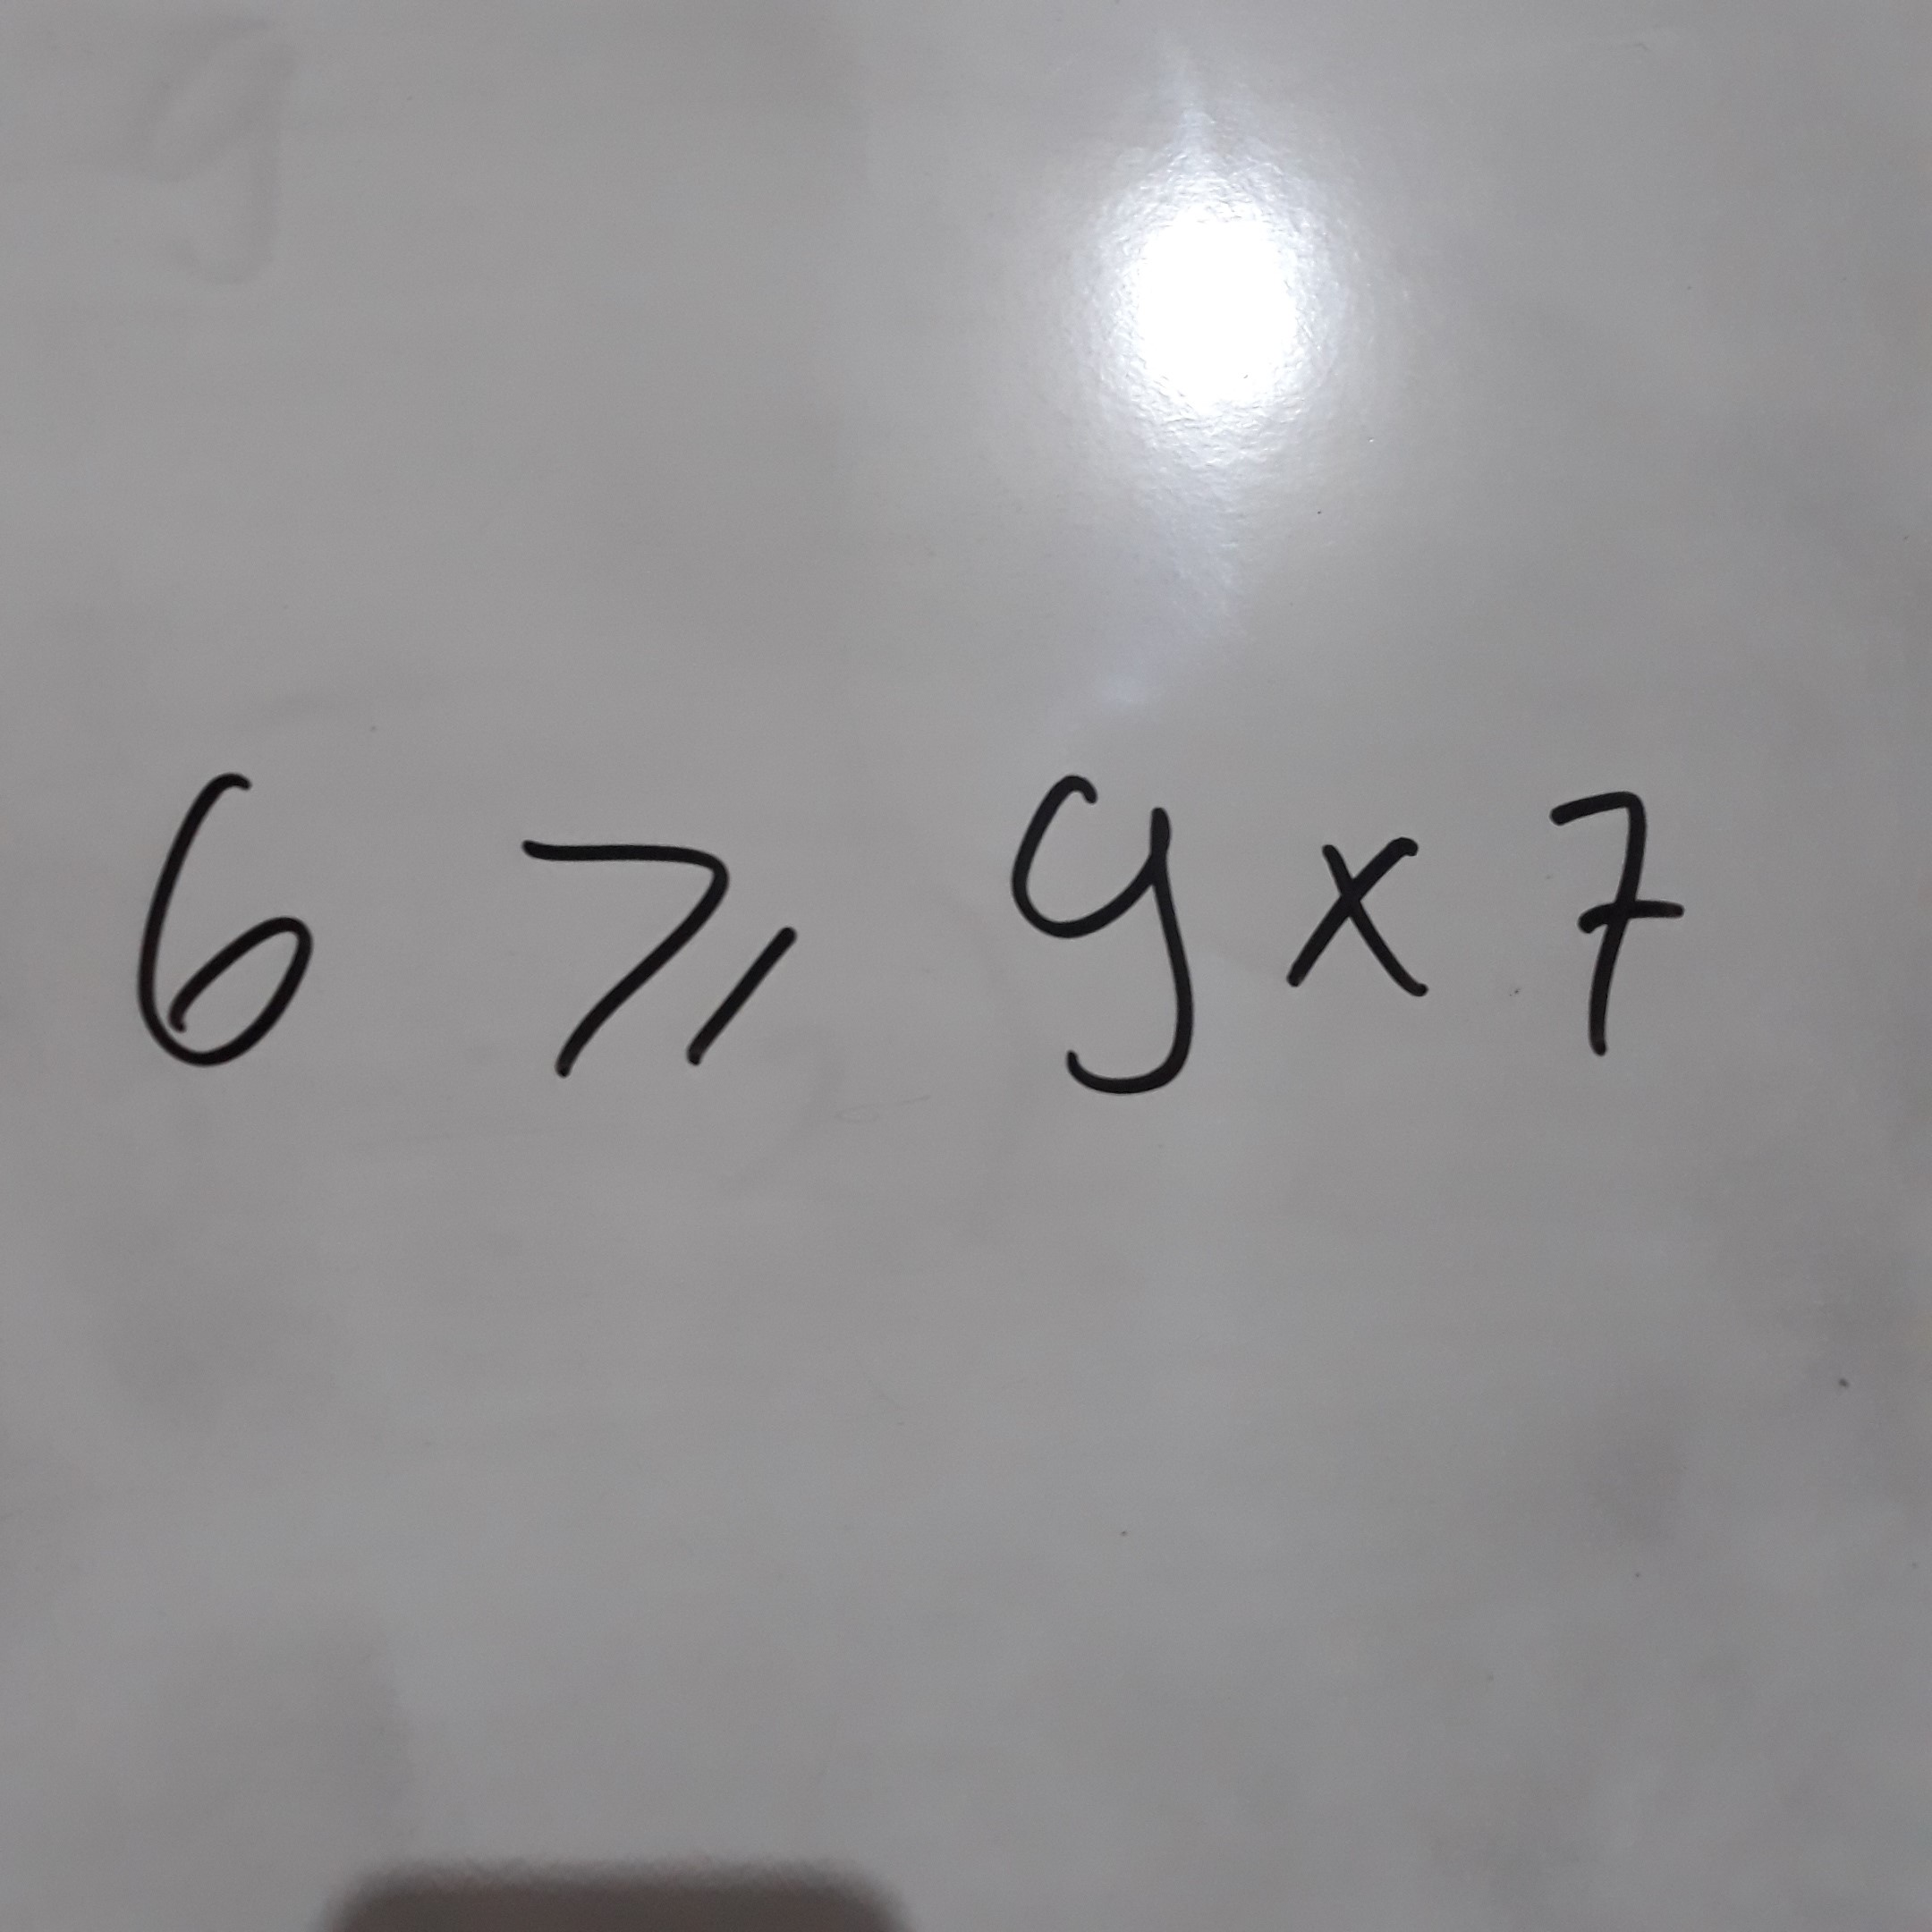morethan-equal: (501, 802, 818, 1097)
multi: (1271, 799, 1458, 1037)
num6: (134, 739, 328, 1107)
num7: (1525, 747, 1698, 1085)
num9: (987, 746, 1219, 1104)
